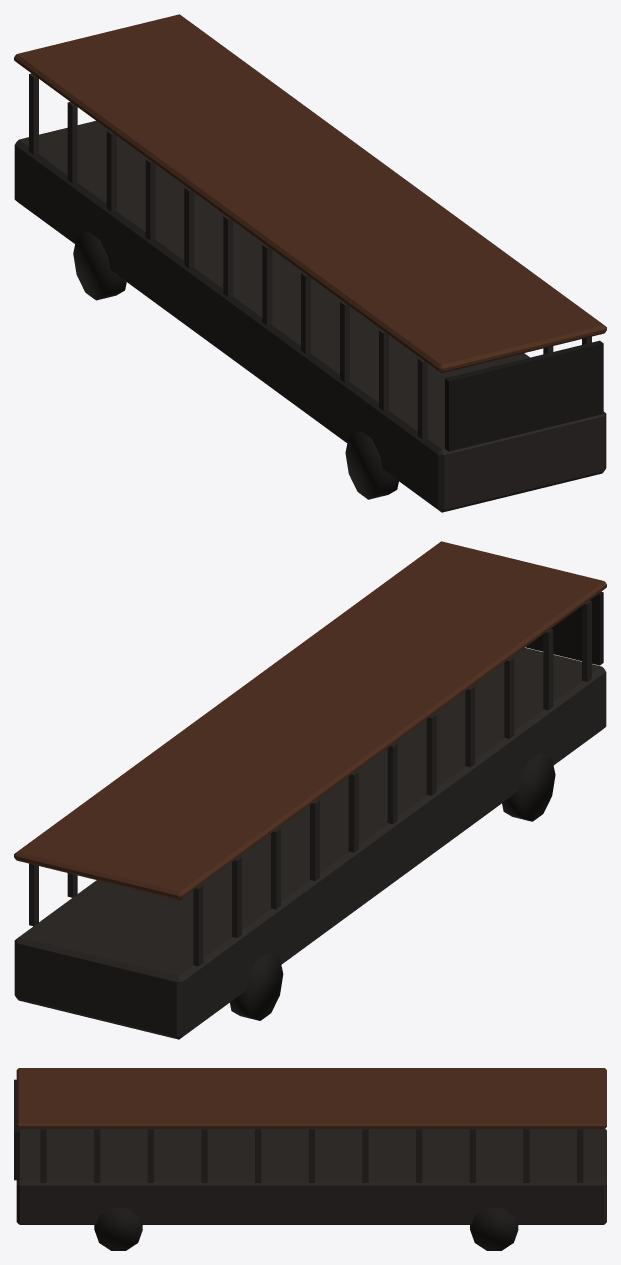
The model's file is bus_burned.glb.
3 views of the same model, one above another, from view 1: azimuth 30°, elevation 25°; view 2: azimuth 150°, elevation 25°; view 3: azimuth 270°, elevation 25° (orthographic). The views are drawn at different scales.
Visible parts, largest first — view 1: BusBurned; view 2: BusBurned; view 3: BusBurned.
Part boxes in pixels (left/top/right/bottom): BusBurned: left=14, top=14, right=606, bottom=512; BusBurned: left=14, top=541, right=606, bottom=1039; BusBurned: left=14, top=1068, right=606, bottom=1250.
Size of the model in its own units: 2.6 by 2.59 by 11.05.
